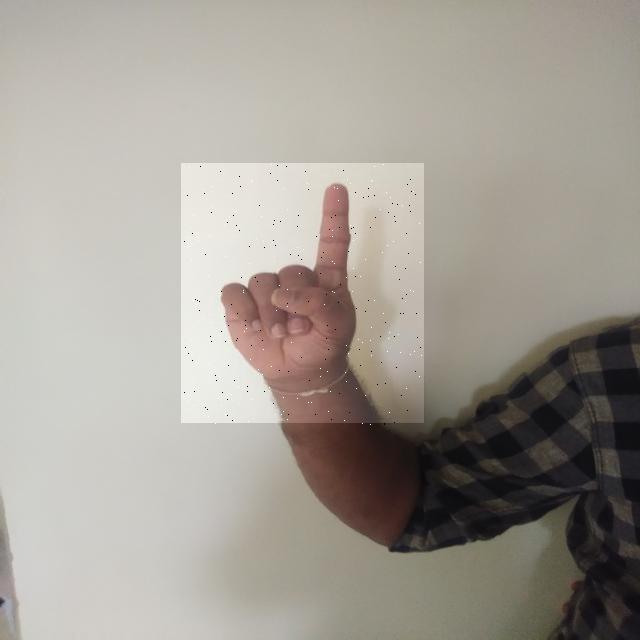IloveYou: (181, 164, 424, 426)
